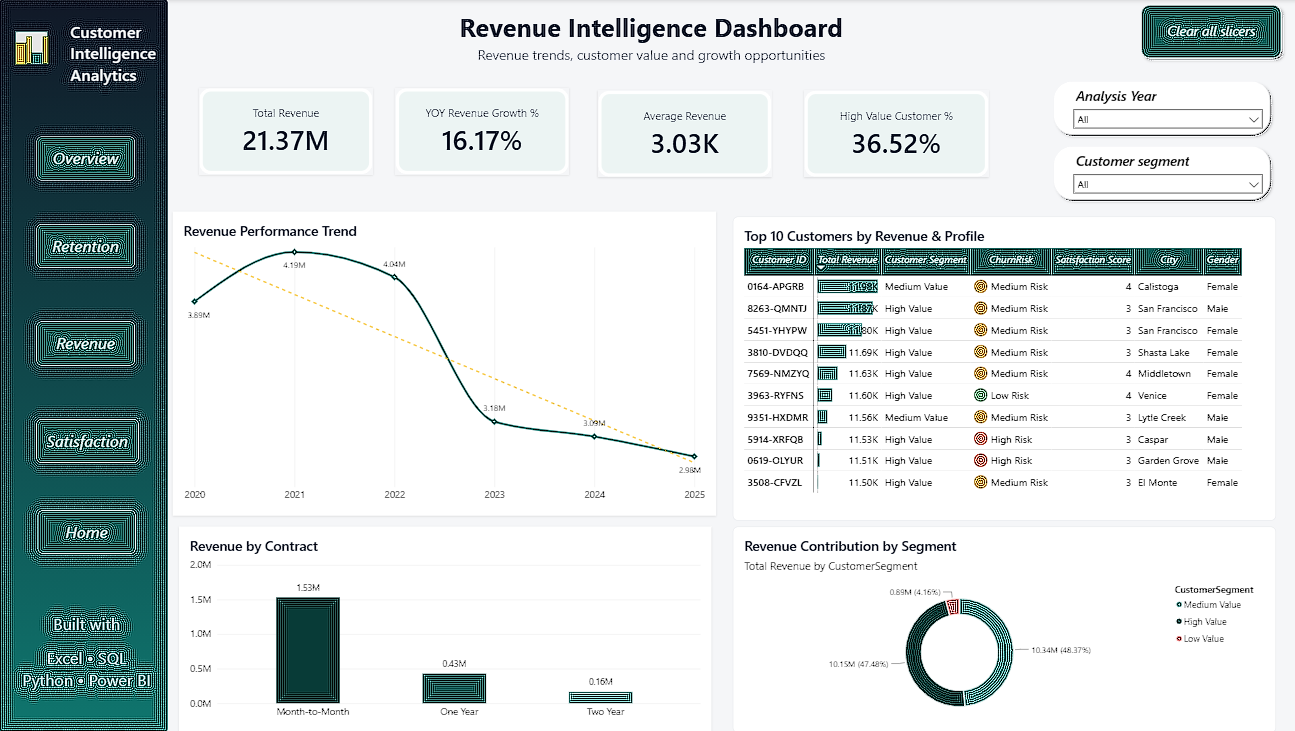

The page's visual inventory and layout, read from the dashboard file:
{"tool":"powerbi","page":{"name":"Revenue Analysis","canvas":[1920,1080],"ordinal":3},"visuals":[{"type":"shape","box":[32,48,48,48],"z":0,"group":"g1"},{"type":"shape","box":[1552,208,336,96],"z":0},{"type":"shape","box":[1552,112,336,96],"z":1000},{"type":"image","box":[0,0,264,1080],"z":2000},{"type":"group","id":"g1","title":"Group 1","box":[32,48,48,48],"z":3000},{"type":"textbox","box":[112,32,128,112],"z":4000},{"type":"textbox","box":[16,904,240,176],"z":5000},{"type":"textbox","title":"Revenue Intelligence Dashboard","box":[256,16,1424,80],"z":6000},{"type":"cardVisual","fields":{"Data":["_Measures.Total Revenue"]},"box":[302.6,130.2,256,128],"z":7000},{"type":"cardVisual","fields":{"Data":["_Measures.YOY Revenue Growth %"]},"box":[590.6,130.2,256,128],"z":8000},{"type":"cardVisual","fields":{"Data":["_Measures.Average Revenue"]},"box":[888.7,133.9,256,128],"z":9000},{"type":"shape","box":[32,64,16,32],"z":10000,"group":"g1"},{"type":"cardVisual","fields":{"Data":["_Measures.High Value Customer %"]},"box":[1192.7,133.9,272,128],"z":10000},{"type":"shape","box":[56,80,16,16],"z":11000,"group":"g1"},{"type":"slicer","fields":{"Values":["DimDate.Year"]},"box":[1584,128,288,64],"z":11000},{"type":"shape","box":[72,56,8,40],"z":12000,"group":"g1"},{"type":"slicer","fields":{"Values":["FactRetention.CustomerSegment"]},"box":[1584,224,288,64],"z":12000},{"type":"actionButton","box":[1680,0,224,96],"z":13000},{"type":"shape","box":[48,56,8,40],"z":13000,"group":"g1"},{"type":"lineChart","title":"Revenue Performance Trend","fields":{"Category":["DimDate.Year"],"Y":["_Measures.Total Revenue"]},"box":[264,312,800,448],"z":14000},{"type":"donutChart","title":"Revenue Contribution by Segment","fields":{"Y":["_Measures.Total Revenue"],"Category":["FactRetention.CustomerSegment"]},"box":[1088,776,800,304],"z":15000},{"type":"clusteredColumnChart","title":"Revenue by Contract","fields":{"Category":["DimSubscription.Contract"],"Y":["_Measures.Total Revenue"]},"box":[272,776,784,304],"z":16000},{"type":"pivotTable","title":"Top 10 Customers by Revenue & Profile","fields":{"Rows":["FactRevenue.Customer ID"],"Values":["_Measures.Total Revenue","Min(FactRetention.CustomerSegment)","Min(FactRetention.ChurnRisk)","Sum(DimCustomerSatisfaction.Satisfaction Score)","Min(DimCustomer.City)","Min(DimCustomer.Gender)"]},"box":[1088,320,800,448],"z":17000},{"type":"actionButton","box":[62.3,203.3,145,65],"z":18000},{"type":"actionButton","box":[62.3,331.3,145,65],"z":19000},{"type":"actionButton","box":[62.3,475.3,145,65],"z":20000},{"type":"actionButton","box":[62.3,619.3,150,65],"z":21000},{"type":"actionButton","box":[64,752,144,64],"z":22000}]}

Visuals, with their boxes on the page's 1920x1080 design canvas (x1, y1, x2, y2). These are canvas units, not pixel positions in the 1295x731 screenshot, which may show the page scaled, cropped or inside an application window:
shape: Rect(32, 48, 80, 96)
shape: Rect(1552, 208, 1888, 304)
shape: Rect(1552, 112, 1888, 208)
image: Rect(0, 0, 264, 1080)
"Group 1" group: Rect(32, 48, 80, 96)
textbox: Rect(112, 32, 240, 144)
textbox: Rect(16, 904, 256, 1080)
"Revenue Intelligence Dashboard" textbox: Rect(256, 16, 1680, 96)
cardVisual - _Measures.Total Revenue: Rect(303, 130, 559, 258)
cardVisual - _Measures.YOY Revenue Growth %: Rect(591, 130, 847, 258)
cardVisual - _Measures.Average Revenue: Rect(889, 134, 1145, 262)
shape: Rect(32, 64, 48, 96)
cardVisual - _Measures.High Value Customer %: Rect(1193, 134, 1465, 262)
shape: Rect(56, 80, 72, 96)
slicer - DimDate.Year: Rect(1584, 128, 1872, 192)
shape: Rect(72, 56, 80, 96)
slicer - FactRetention.CustomerSegment: Rect(1584, 224, 1872, 288)
actionButton: Rect(1680, 0, 1904, 96)
shape: Rect(48, 56, 56, 96)
"Revenue Performance Trend" lineChart: Rect(264, 312, 1064, 760)
"Revenue Contribution by Segment" donutChart: Rect(1088, 776, 1888, 1080)
"Revenue by Contract" clusteredColumnChart: Rect(272, 776, 1056, 1080)
"Top 10 Customers by Revenue & Profile" pivotTable: Rect(1088, 320, 1888, 768)
actionButton: Rect(62, 203, 207, 268)
actionButton: Rect(62, 331, 207, 396)
actionButton: Rect(62, 475, 207, 540)
actionButton: Rect(62, 619, 212, 684)
actionButton: Rect(64, 752, 208, 816)
